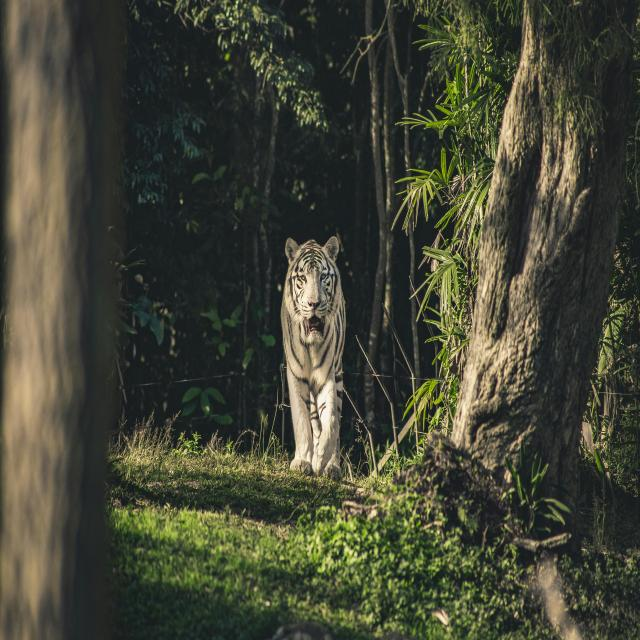Tiger: (280, 234, 346, 481)
